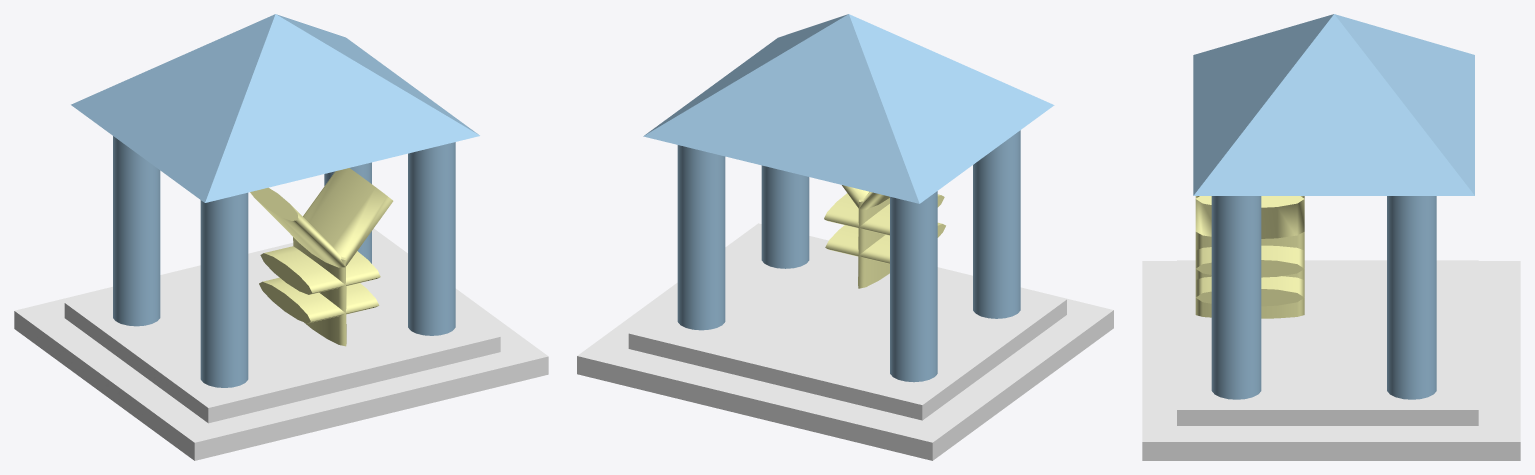
3 renders of one model, left to right at view 1: azimuth 30°, elevation 25°; view 2: azimuth 150°, elevation 25°; view 3: azimuth 270°, elevation 25°, orthographic. The views are drawn at different scales.
Visible parts, largest first — view 1: node_Pyramid001_-10230, node_Box002_-10218, node_Box001_-10216, node_money (1)_-10210, node_Cylinder004_-10226, node_Cylinder003_-10224, node_Cylinder002_-10222, node_Cylinder001_-10220; view 2: node_Pyramid001_-10230, node_Box002_-10218, node_Box001_-10216, node_Cylinder001_-10220, node_Cylinder002_-10222, node_Cylinder004_-10226, node_Cylinder003_-10224, node_money (1)_-10210; view 3: node_Pyramid001_-10230, node_Box002_-10218, node_Box001_-10216, node_Cylinder003_-10224, node_Cylinder001_-10220, node_money (1)_-10210.
Part boxes in pixels (x1=…): node_Pyramid001_-10230: x1=71, y1=14, x2=479, y2=202; node_Box002_-10218: x1=64, y1=242, x2=500, y2=423; node_Box001_-10216: x1=14, y1=228, x2=548, y2=460; node_money (1)_-10210: x1=250, y1=168, x2=393, y2=346; node_Cylinder004_-10226: x1=200, y1=192, x2=248, y2=387; node_Cylinder003_-10224: x1=408, y1=142, x2=455, y2=335; node_Cylinder002_-10222: x1=113, y1=136, x2=160, y2=326; node_Cylinder001_-10220: x1=324, y1=162, x2=371, y2=263; node_Pyramid001_-10230: x1=643, y1=14, x2=1054, y2=203; node_Box002_-10218: x1=628, y1=236, x2=1066, y2=420; node_Box001_-10216: x1=577, y1=223, x2=1113, y2=460; node_Cylinder001_-10220: x1=677, y1=145, x2=725, y2=330; node_Cylinder002_-10222: x1=890, y1=191, x2=937, y2=382; node_Cylinder004_-10226: x1=973, y1=130, x2=1020, y2=318; node_Cylinder003_-10224: x1=761, y1=165, x2=809, y2=268; node_money (1)_-10210: x1=824, y1=185, x2=945, y2=288; node_Pyramid001_-10230: x1=1193, y1=14, x2=1474, y2=195; node_Box002_-10218: x1=1177, y1=260, x2=1478, y2=425; node_Box001_-10216: x1=1142, y1=261, x2=1520, y2=460; node_Cylinder003_-10224: x1=1211, y1=196, x2=1261, y2=399; node_Cylinder001_-10220: x1=1387, y1=196, x2=1436, y2=399; node_money (1)_-10210: x1=1195, y1=196, x2=1304, y2=318.
Bounding box in the file's own units: 0.0791 × 0.0722 × 0.0699.
